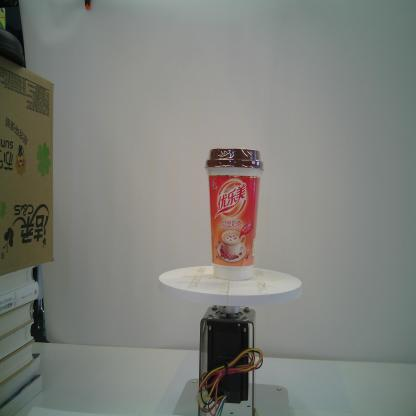Instant Drink: (203, 147, 265, 282)
